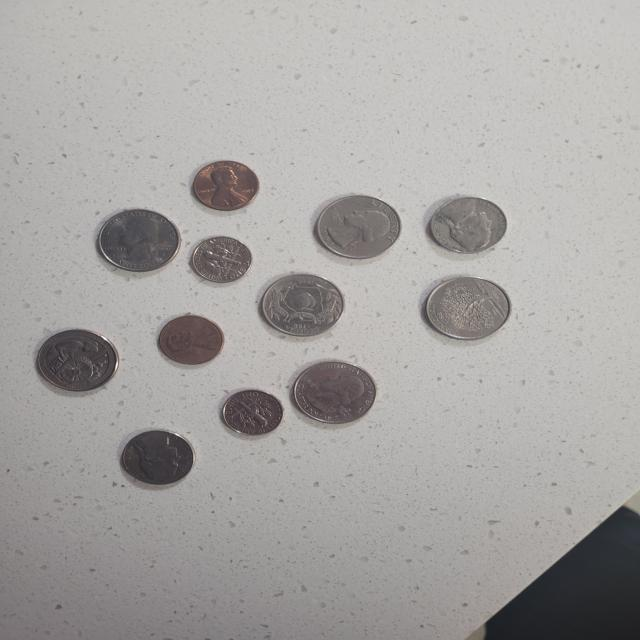Dime: (188, 233, 256, 288), (218, 391, 284, 436)
Nickel: (421, 191, 512, 253), (115, 429, 192, 487)
Penny: (183, 160, 258, 213), (154, 312, 226, 366)
Quarter: (300, 185, 406, 265), (422, 270, 516, 344), (32, 323, 122, 400), (254, 268, 343, 342), (282, 359, 376, 426), (92, 205, 182, 273)
